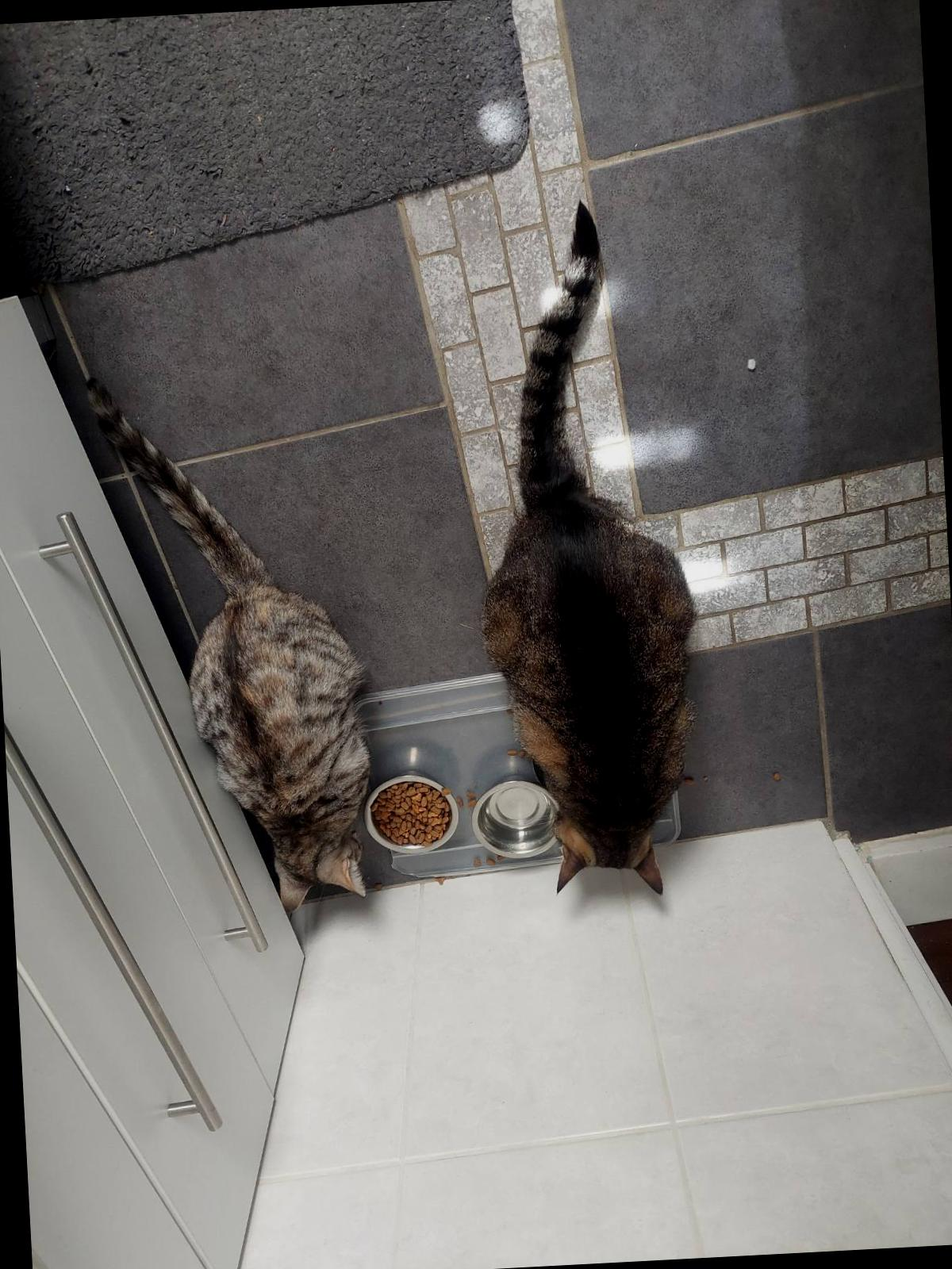macka: (458, 194, 712, 908), (80, 362, 378, 927)
